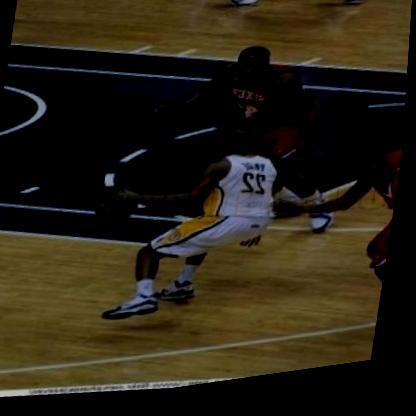basketball: (90, 184, 145, 238)
